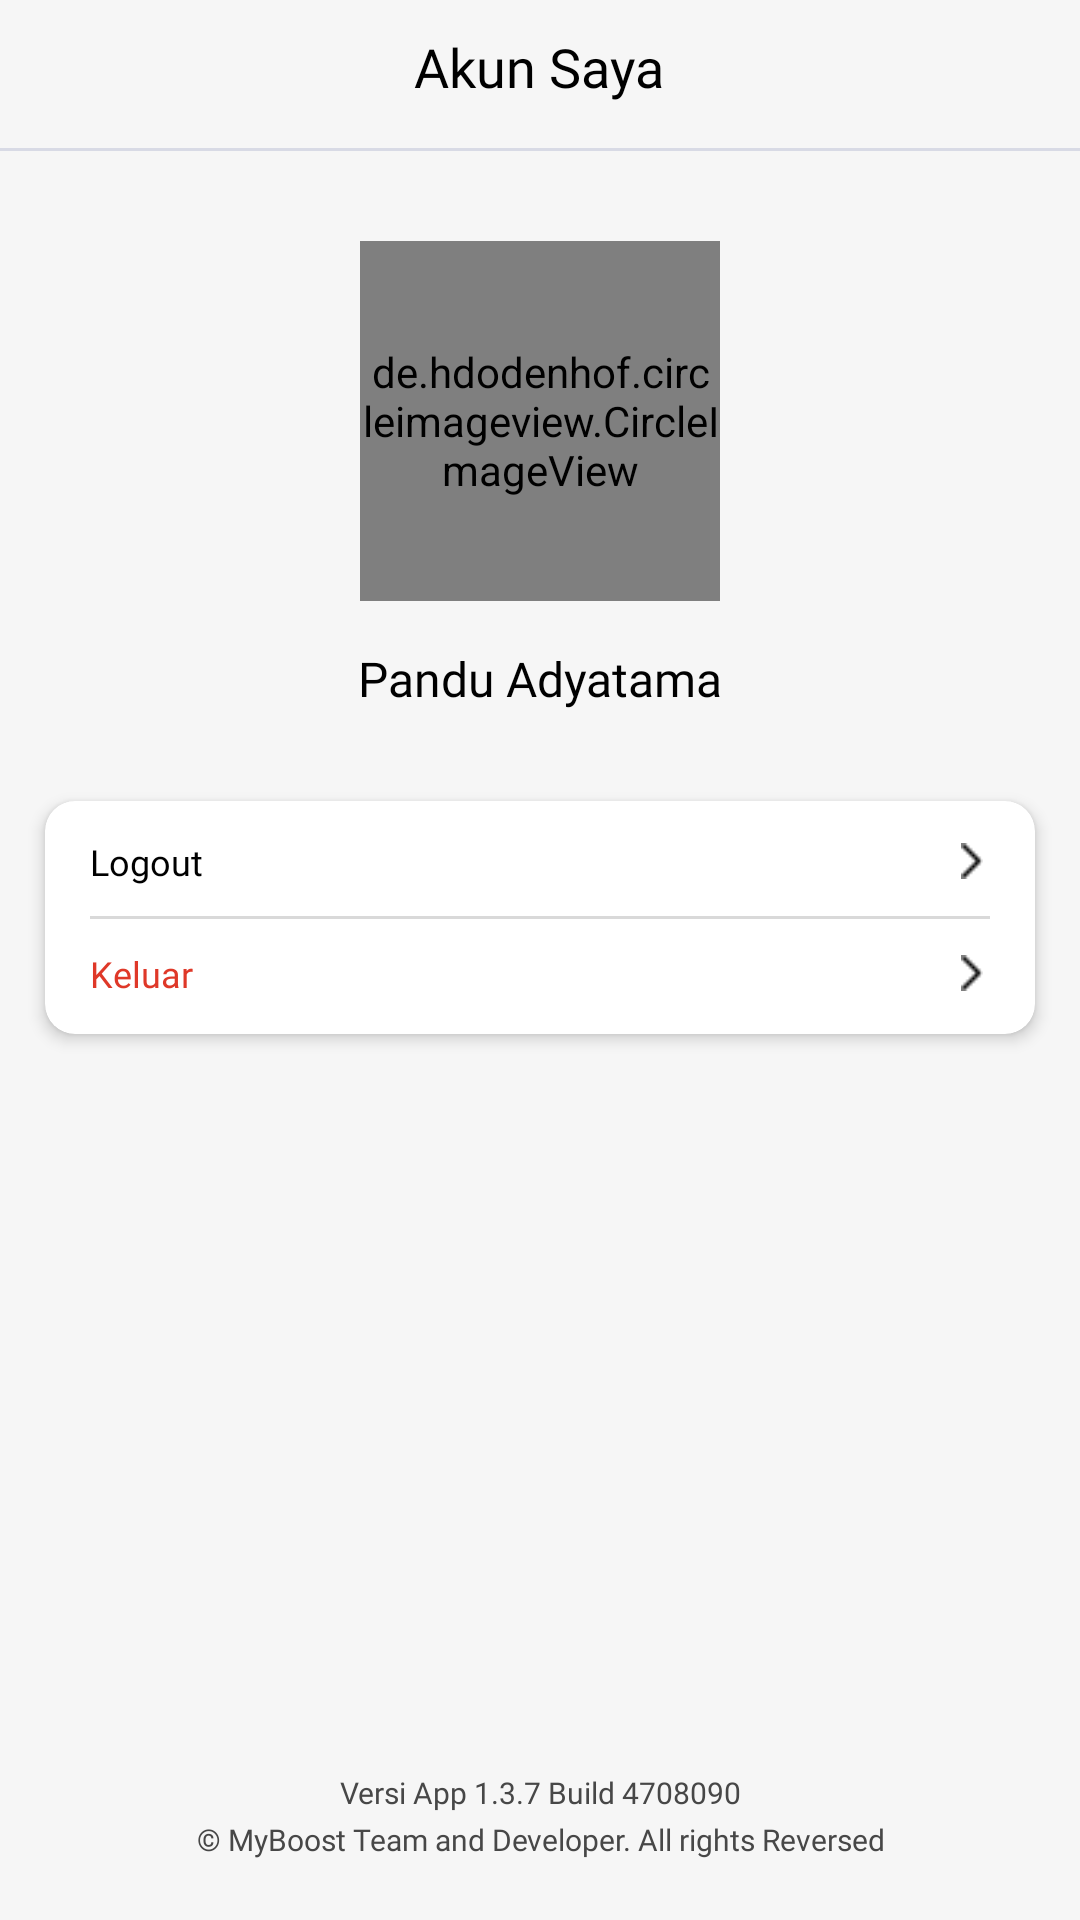

Named icons in this screenshot (1080 × 1920) and their bounding boxes, [x1,y1,x2,y2]:
right arrow: [961,843,983,879], [961,955,983,991]
